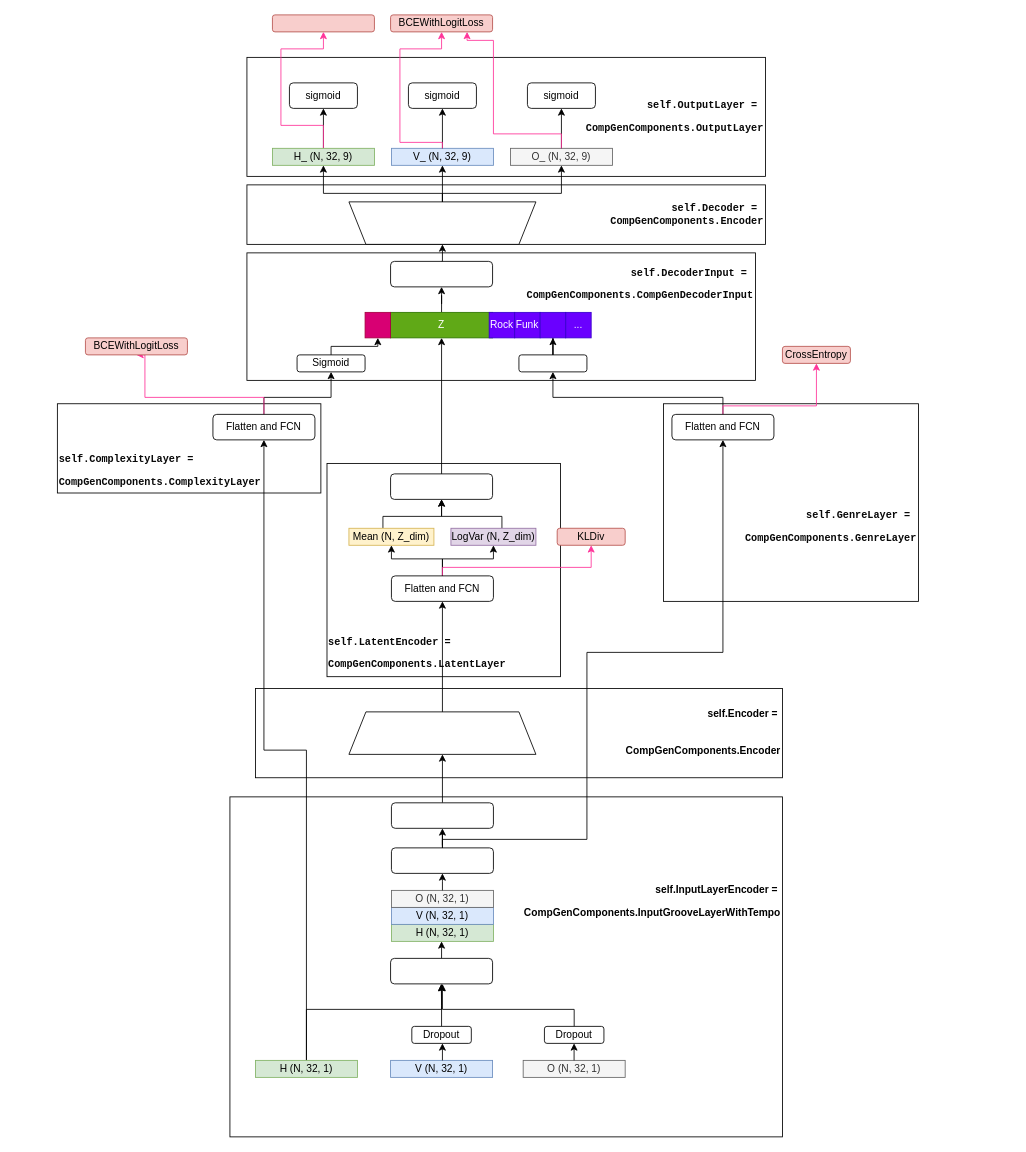
The diagram is 1026 pixels wide and 1152 high, and some of its shapes have lost their labels. Here are the shapes that lost their labels. From the top down, the centre of each, then its label:
At point (323, 23): "FocalLoss".
At point (442, 222): "Decoder".
At point (441, 274): "FCN and Reshape".
At point (377, 325): "Comp lexity".
At point (552, 363): "Softmax".
At point (441, 486): "Reparametrize".
At point (442, 732): "Encoder".
At point (442, 815): "PositionalEncoding".
At point (442, 860): "Input Layer (FCN)".
At point (441, 971): "concat".
